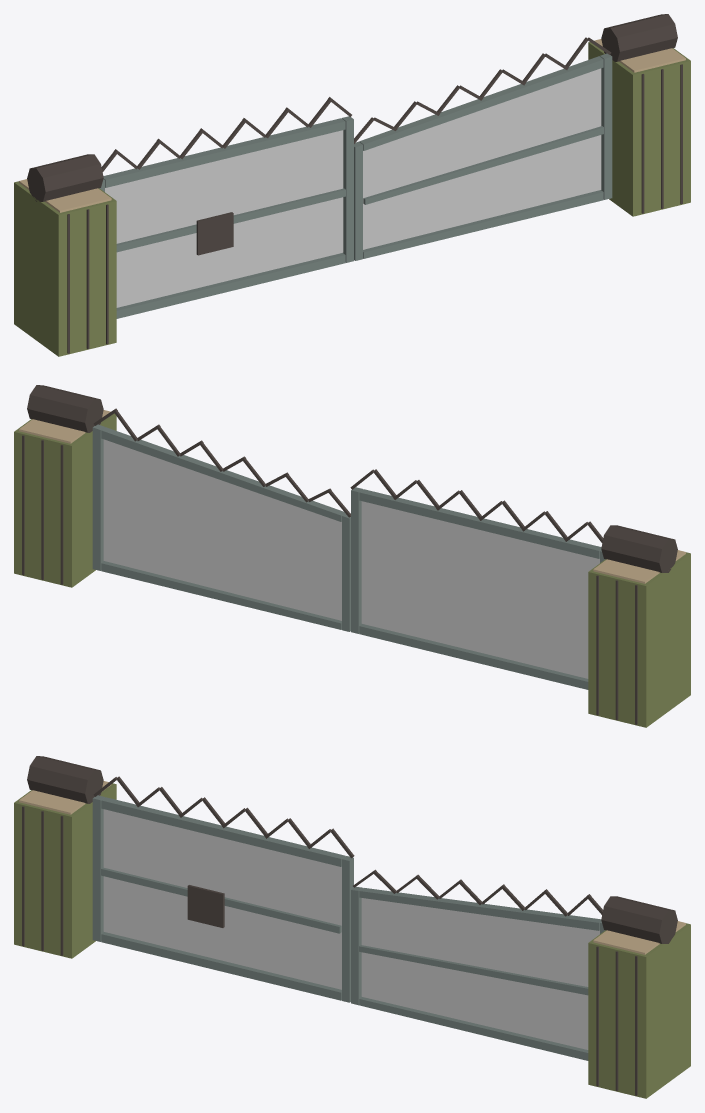
File: SM_PuertaVehiculos_v3_MallaEspino_e1_Danado_LOD0.fbx
3 views of the same model, one above another, from view 1: azimuth 30°, elevation 25°; view 2: azimuth 150°, elevation 25°; view 3: azimuth 330°, elevation 25° (orthographic).
Parts seen in each view (by area): view 1: Hoja_O, Hoja_E, SM_bloques.puerta_estados_v13_LOD0; view 2: Hoja_O, Hoja_E, SM_bloques.puerta_estados_v13_LOD0; view 3: Hoja_O, SM_bloques.puerta_estados_v13_LOD0, Hoja_E.
Boxes of the visible parts, x1,y1,x2,y2 form: Hoja_O: (99,97,353,318); Hoja_E: (354,37,612,260); SM_bloques.puerta_estados_v13_LOD0: (14,14,690,356); Hoja_O: (350,469,605,689); Hoja_E: (92,408,350,631); SM_bloques.puerta_estados_v13_LOD0: (14,385,690,727); Hoja_O: (92,776,354,1002); SM_bloques.puerta_estados_v13_LOD0: (14,756,690,1098); Hoja_E: (351,869,605,1060).
Size of the model in its own units: 9.8 by 2.55 by 1.24.
